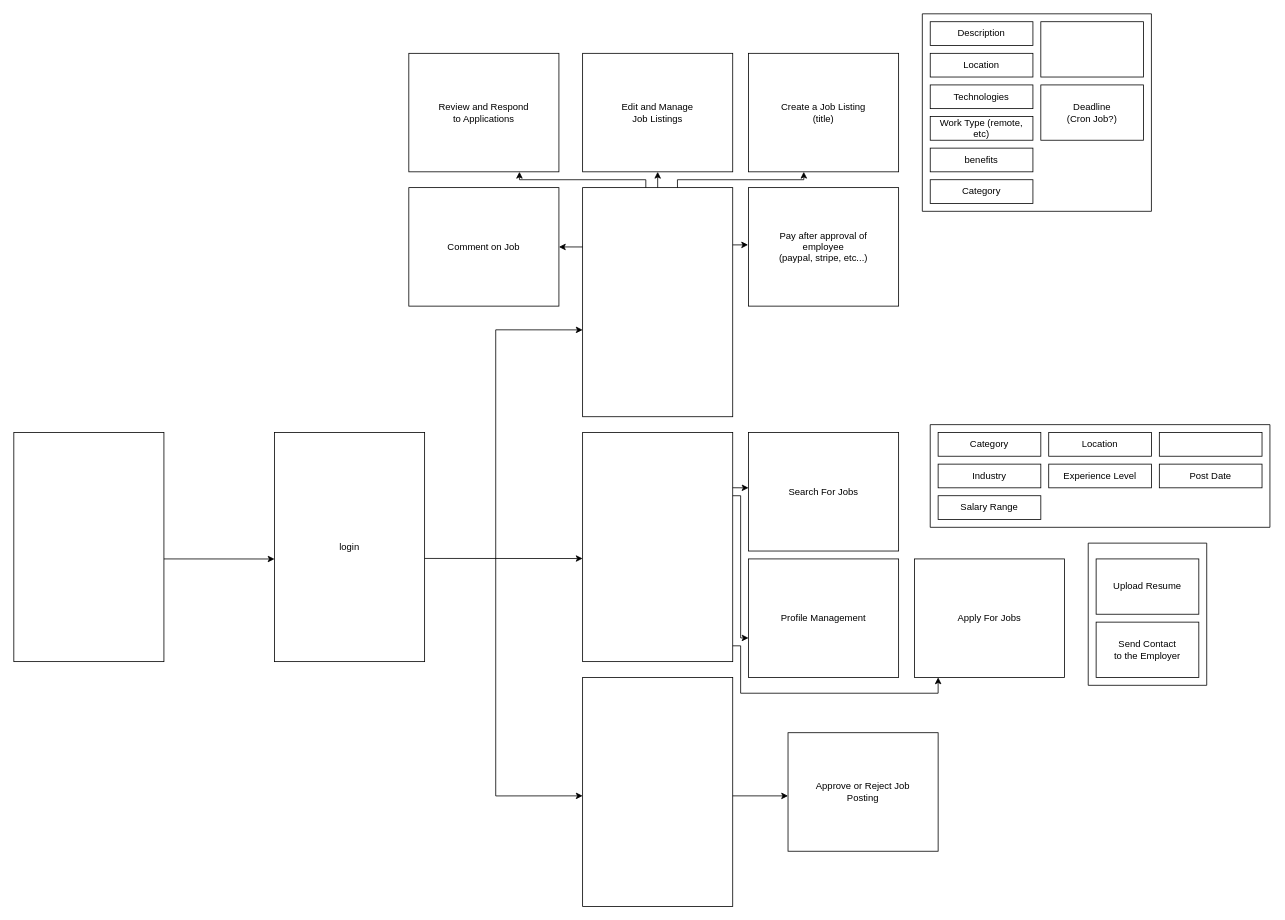
Image size: 1285x920. Some labels were removed from this diagram. The centre of each missing label's shape, as x and y in pixels:
Admins: (x=657, y=792)
Candidates (Potential Employees): (x=657, y=547)
Employers: (x=657, y=302)
keywords (job description or title): (x=1210, y=444)
requirements skills qualifications: (x=1092, y=49)
sign_up: (x=88, y=547)
